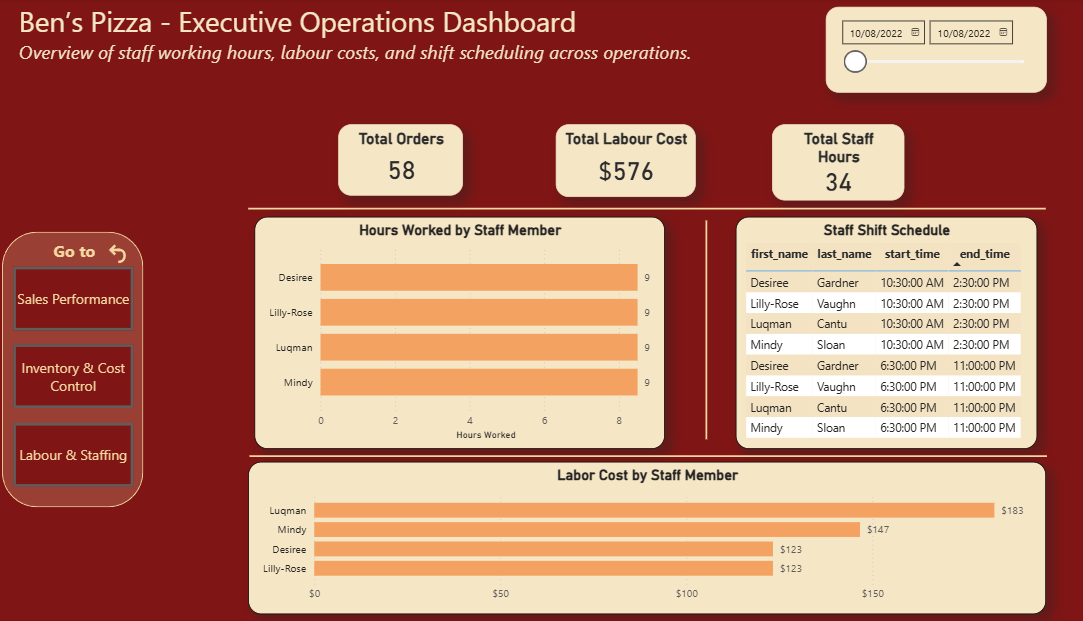

This screenshot's page, from the dashboard's own definition file:
{"tool":"powerbi","page":{"name":"Labour & Staffing","canvas":[1280,720],"ordinal":3},"visuals":[{"type":"card","title":"Total Labour Cost","fields":{"Values":["Sum(staff_cost.staff_cost)"]},"box":[650,145.7,161.6,83.7],"z":0},{"type":"slicer","fields":{"Values":["staff_cost.date"]},"box":[962.3,10.1,255.4,99.6],"z":1000},{"type":"card","title":"Total Staff Hours","fields":{"Values":["Sum(staff_cost.hours_in_shift)"]},"box":[900,145.7,152.9,88],"z":2000},{"type":"tableEx","title":"Staff Shift Schedule","fields":{"Values":["staff_cost.first_name","staff_cost.last_name","staff_cost.start_time","staff_cost.end_time"]},"box":[858.4,252.5,347.7,268.4],"z":3000},{"type":"clusteredBarChart","title":"Hours Worked by Staff Member","fields":{"Category":["staff_cost.first_name"],"Y":["Sum(staff_cost.hours_in_shift)"]},"box":[303,252.5,473.2,268.4],"z":4000},{"type":"clusteredBarChart","title":"Labor Cost by Staff Member","fields":{"Y":["Sum(staff_cost.staff_cost)"],"Category":["staff_cost.first_name"]},"box":[295.8,535.3,920.5,176],"z":5000},{"type":"shape","box":[12,270,163,318],"z":6000},{"type":"actionButton","title":"Ingredient Usage & Cost Control","box":[25,310,138.5,73.6],"z":7000},{"type":"actionButton","title":"Ingredient Usage & Cost Control","box":[25,490,138.5,73.6],"z":8000},{"type":"actionButton","title":"Ingredient Usage & Cost Control","box":[25,400,138.5,73.6],"z":9000},{"type":"shape","box":[793.5,256.8,62,252.5],"z":10000},{"type":"shape","box":[295.8,226.5,920.5,33.2],"z":11000},{"type":"shape","box":[297.2,512.2,920.5,33.2],"z":12000},{"type":"card","title":"Total Orders","fields":{"Values":["orders_dashboard.Total Orders"]},"box":[400,145.7,144.3,82.2],"z":13000},{"type":"textbox","box":[43.3,274.1,103.9,40.4],"z":14000},{"type":"actionButton","box":[129.8,279.9,34.6,30.3],"z":15000},{"type":"textbox","box":[26,0,829.6,95.2],"z":16000}]}

Visuals, with their boxes in screenshot pixels (x1, y1, x2, y2), scaled from the page's 1280x720 canvas onto the 1083x621 screenshot:
"Total Labour Cost" card: [550,126,687,198]
slicer - staff_cost.date: [814,9,1030,95]
"Total Staff Hours" card: [761,126,891,202]
"Staff Shift Schedule" tableEx: [726,218,1020,449]
"Hours Worked by Staff Member" clusteredBarChart: [256,218,657,449]
"Labor Cost by Staff Member" clusteredBarChart: [250,462,1029,613]
shape: [10,233,148,507]
"Ingredient Usage & Cost Control" actionButton: [21,267,138,331]
"Ingredient Usage & Cost Control" actionButton: [21,423,138,486]
"Ingredient Usage & Cost Control" actionButton: [21,345,138,408]
shape: [671,221,724,439]
shape: [250,195,1029,224]
shape: [251,442,1030,470]
"Total Orders" card: [338,126,461,197]
textbox: [37,236,125,271]
actionButton: [110,241,139,268]
textbox: [22,0,724,82]
